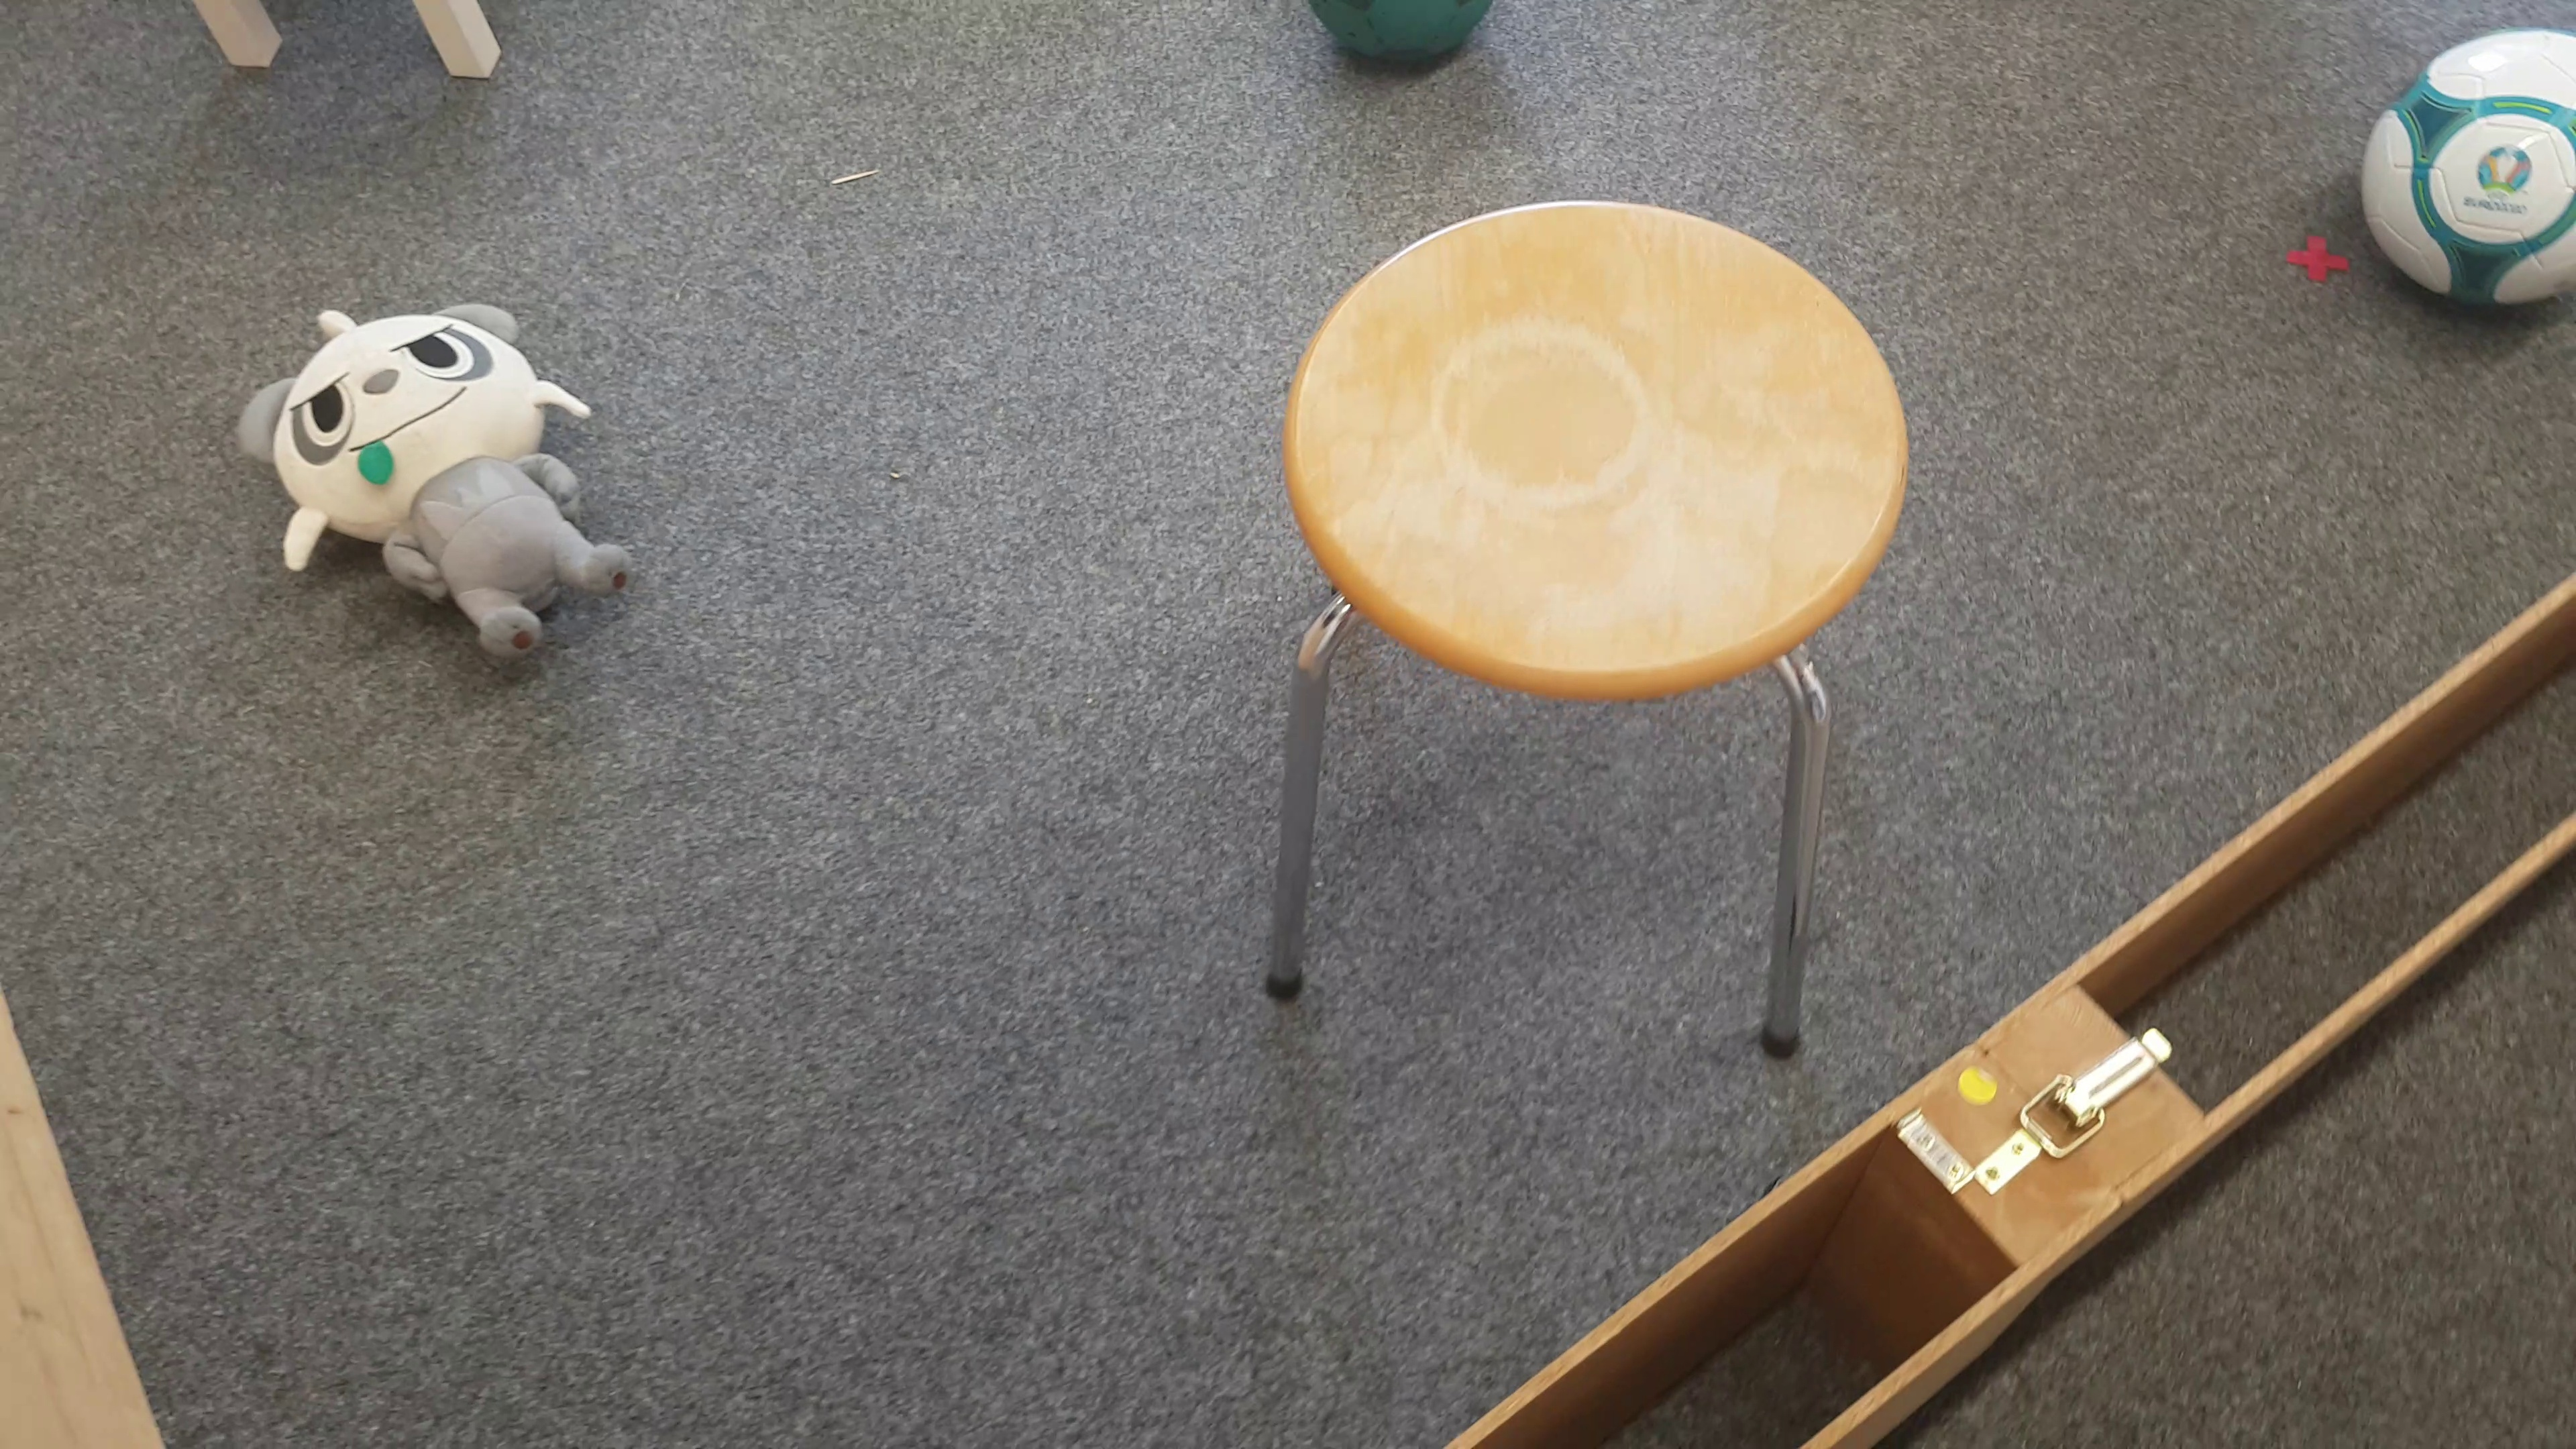grasp: (232, 297, 637, 667)
kick: (2358, 18, 2576, 311), (1316, 2, 1493, 73)
